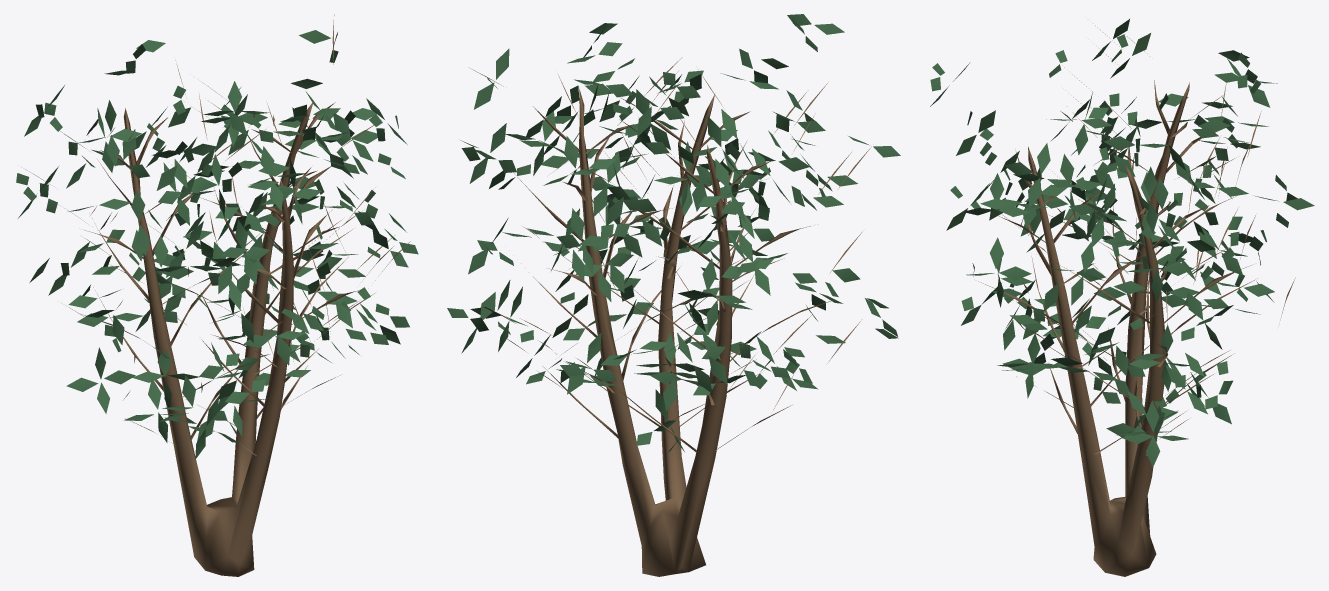
Rendered from Myrte_0_Niveau2.fbx.
3 renders of one model, left to right at view 1: azimuth 30°, elevation 25°; view 2: azimuth 150°, elevation 25°; view 3: azimuth 270°, elevation 25°, orthographic. The views are drawn at different scales.
Visible parts, largest first — view 1: Myrte_0_Niveau2; view 2: Myrte_0_Niveau2; view 3: Myrte_0_Niveau2.
Boxes of the visible parts, x1,y1,x2,y2 form: Myrte_0_Niveau2: (16,14,418,576); Myrte_0_Niveau2: (447,14,900,576); Myrte_0_Niveau2: (930,19,1314,576).
Bounding box in the file's own units: 91.11 × 116 × 82.7.
